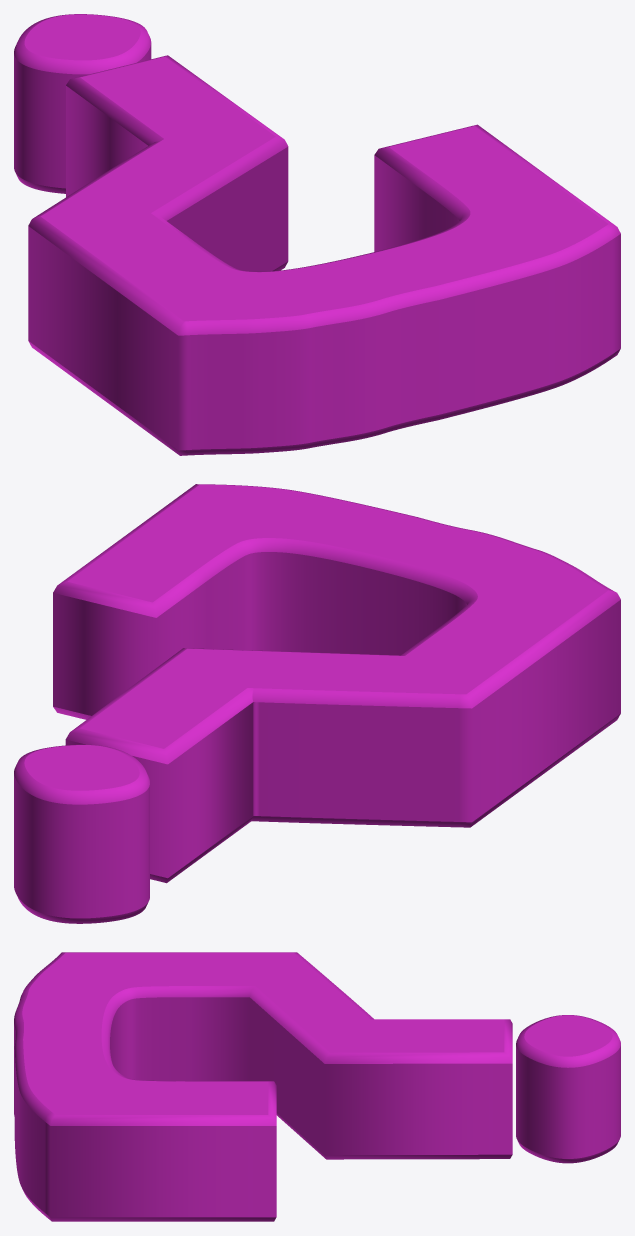
File: QuestionMark_CoolFont.fbx
3 renders of one model, top to bottom at view 1: azimuth 30°, elevation 25°; view 2: azimuth 150°, elevation 25°; view 3: azimuth 270°, elevation 25°, orthographic. The views are drawn at different scales.
Visible parts, largest first — view 1: QuestionMark; view 2: QuestionMark; view 3: QuestionMark.
Boxes of the visible parts, bbox=[...] form: QuestionMark: bbox=[14, 14, 620, 455]; QuestionMark: bbox=[14, 484, 620, 923]; QuestionMark: bbox=[14, 952, 620, 1221].
Size of the model in its own units: 0.4777 by 0.14 by 0.7238.
